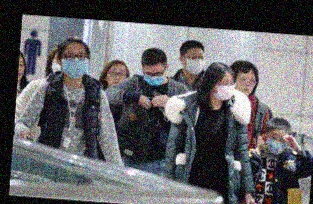with_mask: (59, 48, 89, 79), (183, 50, 206, 75), (263, 131, 287, 154), (213, 78, 234, 101), (141, 68, 165, 87)
without_mask: (235, 74, 256, 96), (106, 67, 127, 87)
